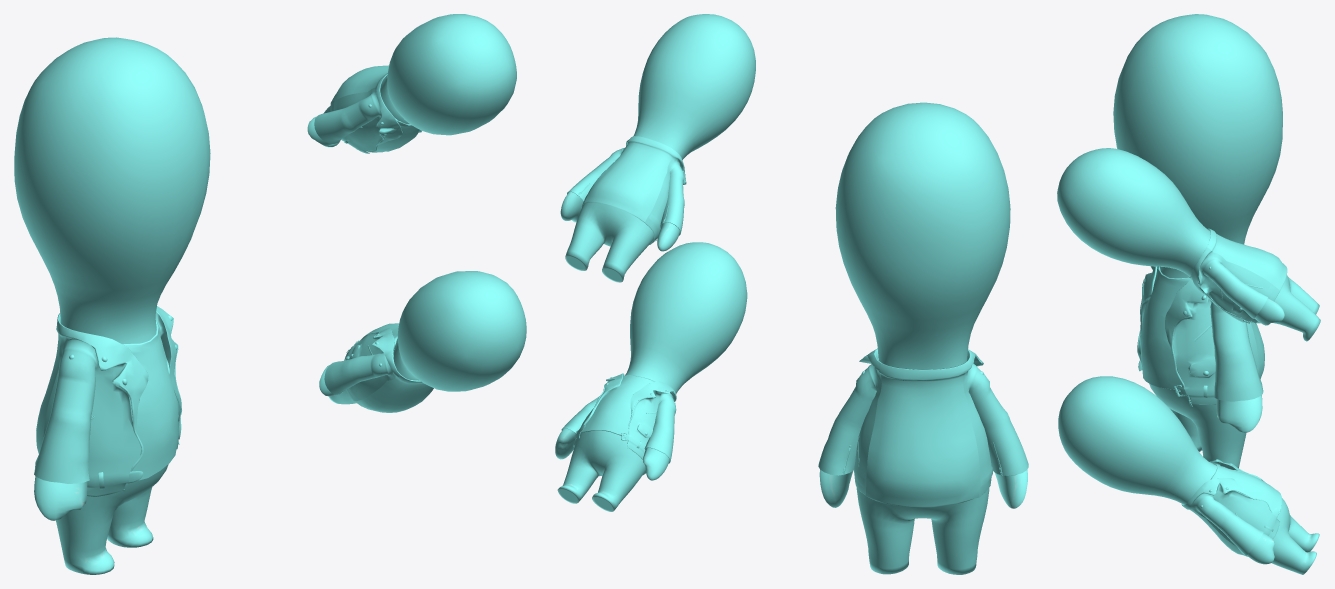
The model's file is prota medio.glb.
3 renders of one model, left to right at view 1: azimuth 30°, elevation 25°; view 2: azimuth 150°, elevation 25°; view 3: azimuth 270°, elevation 25°, orthographic. The views are drawn at different scales.
Visible parts, largest first — view 1: node_id42, node_id44, node_id91, node_id77, node_id93, node_id79; view 2: node_id42, node_id44, node_id91, node_id77, node_id79, node_id93; view 3: node_id42, node_id91, node_id77, node_id44, node_id93, node_id79.
Boxes of the visible parts, bbox=[...] form: node_id42: bbox=[14, 37, 210, 574]; node_id44: bbox=[34, 306, 181, 496]; node_id91: bbox=[319, 271, 526, 404]; node_id77: bbox=[307, 14, 516, 147]; node_id93: bbox=[324, 323, 433, 412]; node_id79: bbox=[314, 65, 421, 153]; node_id42: bbox=[819, 102, 1027, 574]; node_id44: bbox=[818, 348, 1028, 507]; node_id91: bbox=[555, 242, 747, 511]; node_id77: bbox=[560, 14, 755, 282]; node_id79: bbox=[567, 136, 686, 244]; node_id93: bbox=[561, 373, 676, 474]; node_id42: bbox=[1113, 14, 1282, 468]; node_id91: bbox=[1058, 376, 1319, 574]; node_id77: bbox=[1057, 148, 1320, 341]; node_id44: bbox=[1137, 266, 1264, 406]; node_id93: bbox=[1181, 459, 1281, 556]; node_id79: bbox=[1189, 228, 1287, 324].
Bounding box in the file's own units: 0.4636 × 0.4798 × 0.2613.
Materials: 2 (2 with a texture image).
